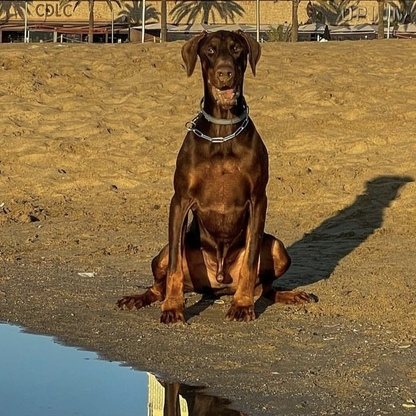doberman: (115, 21, 318, 324)
